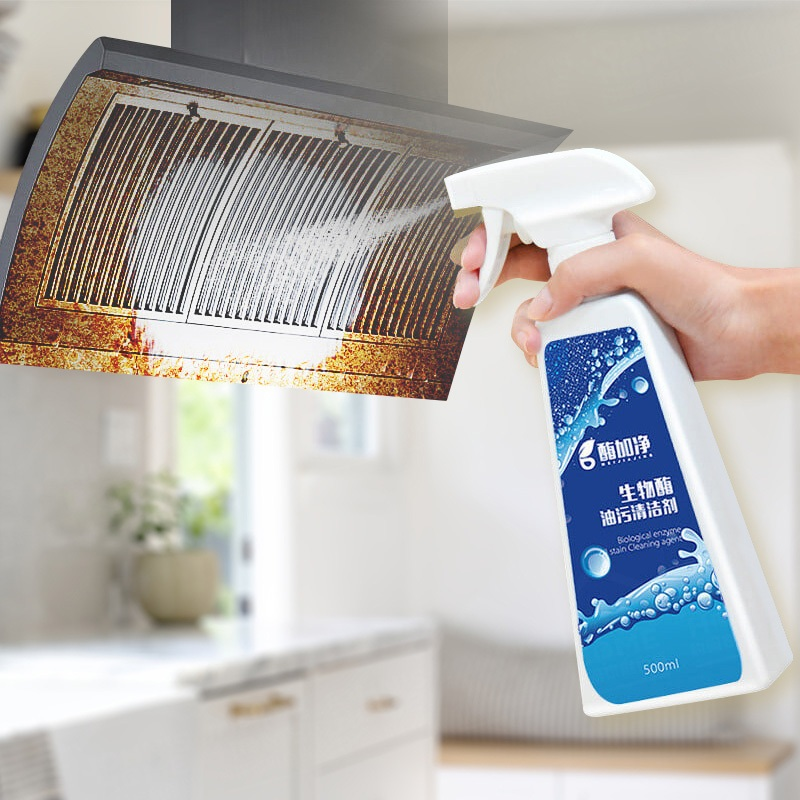cleaner: (425, 145, 794, 724)
